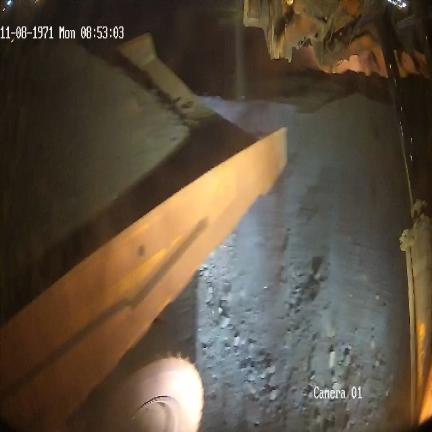pile: (1, 32, 195, 279)
